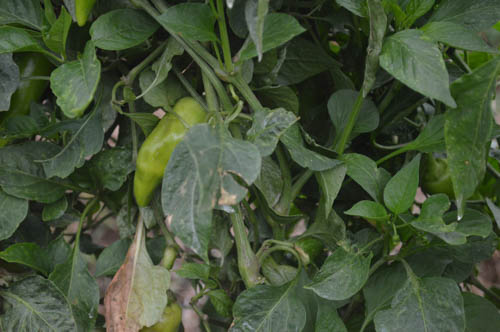ChiliPepper: (134, 98, 206, 204)
